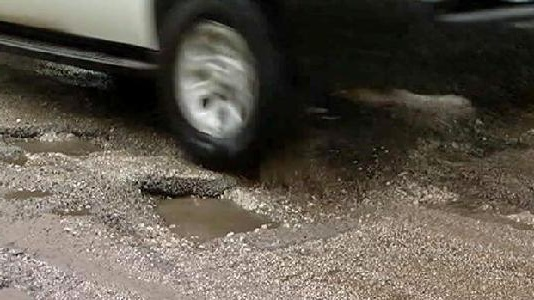pothole: (140, 176, 289, 248), (0, 122, 112, 169), (52, 195, 93, 216), (0, 185, 55, 200), (0, 282, 43, 300)
